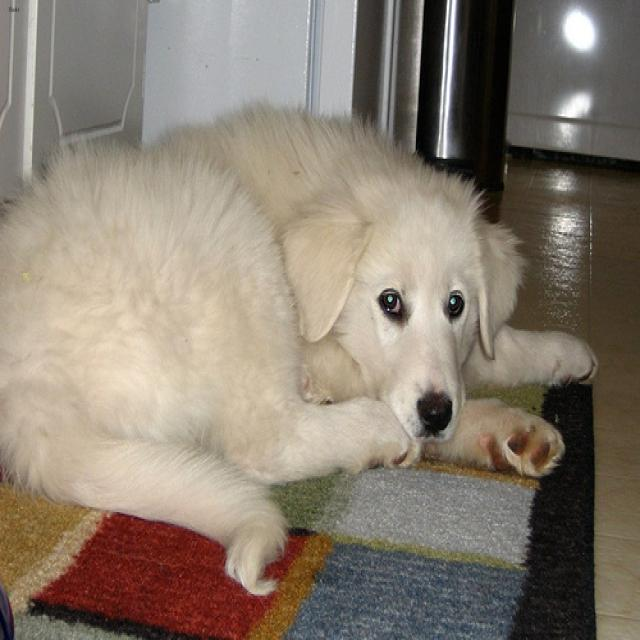dog-great_pyrenees: (1, 99, 604, 611)
